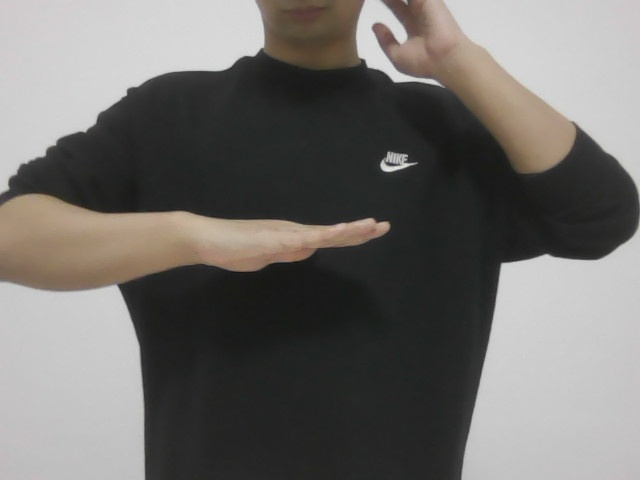safe: (174, 202, 399, 282)
